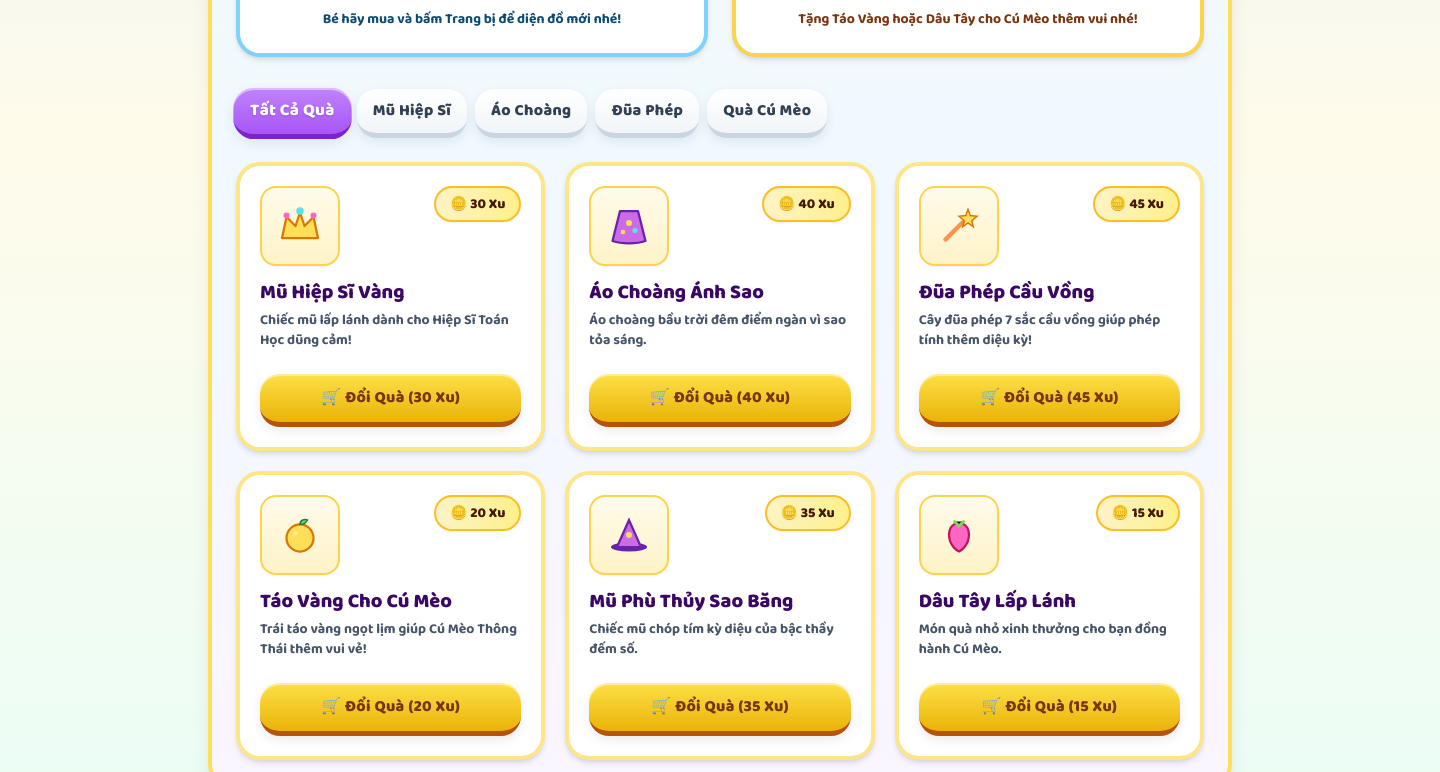
it: AvatarRoom › prevents purchase when coins are insufficient and shows encouraging message
(page scrolled)
Click the button with test id "buy-item-hat_knight": (391, 400) [260,374,521,427]
(page scrolled)
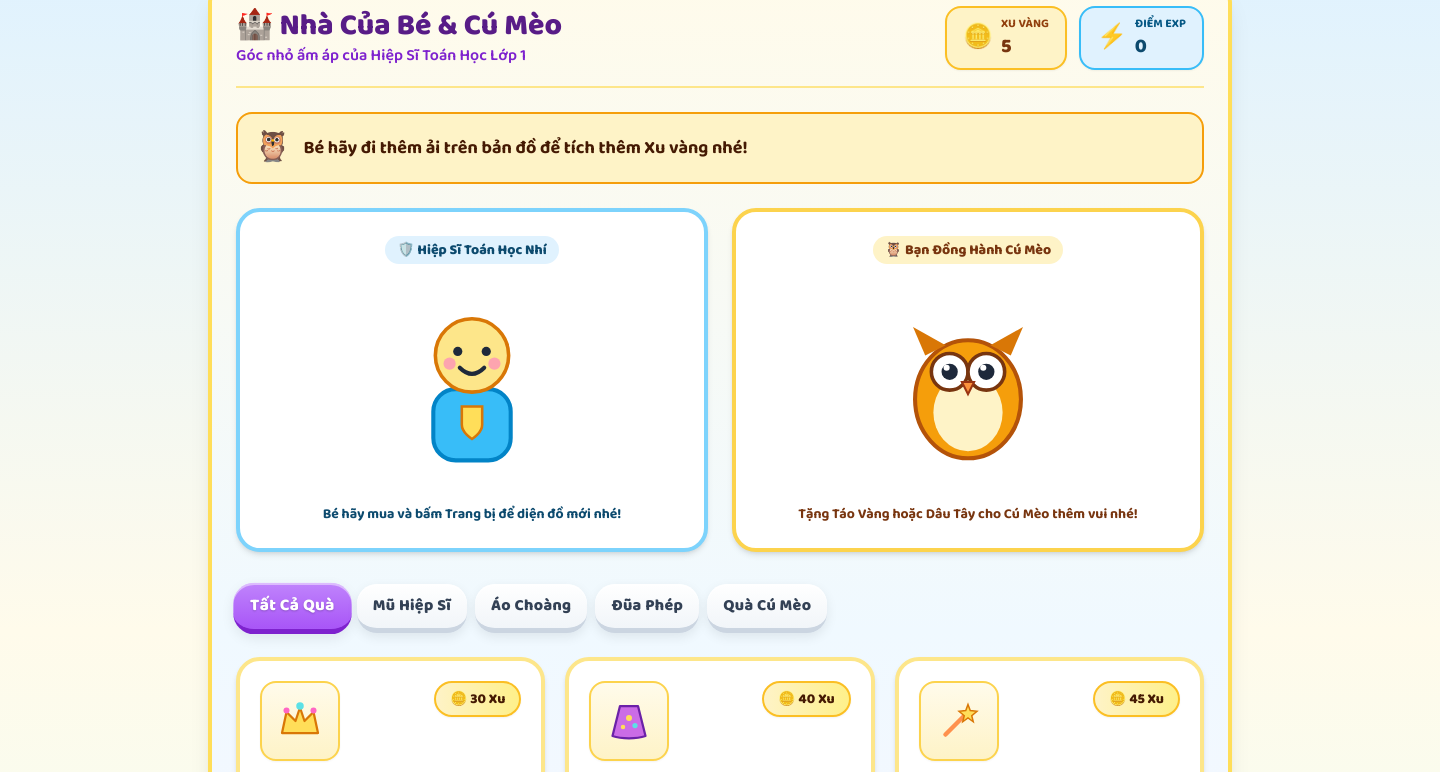
expect the text "Bé hãy đi thêm ải trên bản đồ để tích thêm Xu vàng nhé!" is shown: met, box [303,134,748,162]
